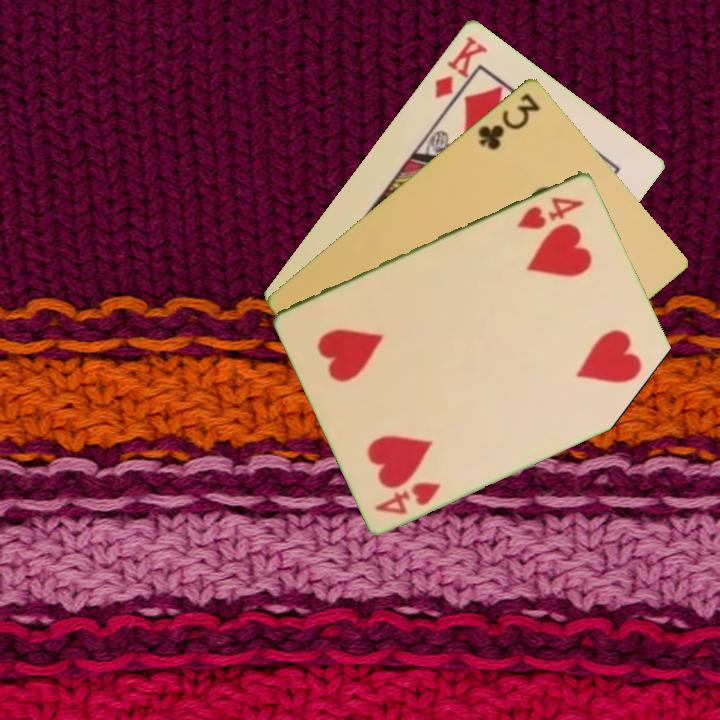3c: (474, 89, 543, 153)
4h: (513, 192, 587, 232), (371, 477, 444, 517)
Kd: (430, 31, 491, 101)
